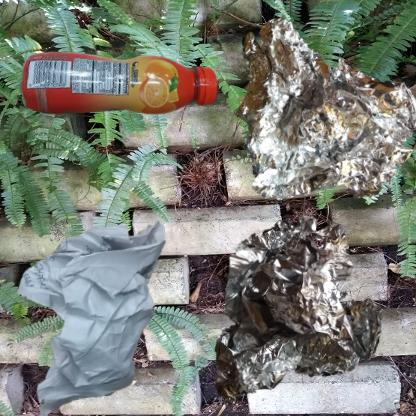aluminio: (213, 10, 416, 230), (213, 213, 385, 409)
botella: (10, 10, 265, 192)
papel: (10, 213, 187, 416)
